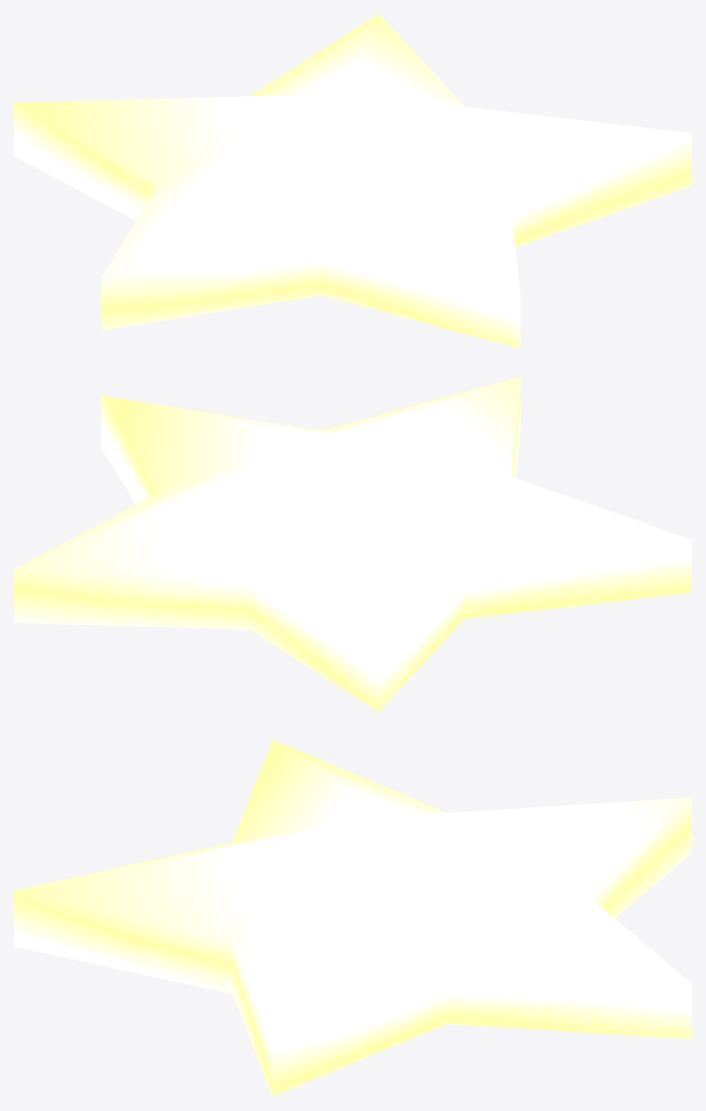
File: star2.glb
3 renders of one model, top to bottom at view 1: azimuth 30°, elevation 25°; view 2: azimuth 150°, elevation 25°; view 3: azimuth 270°, elevation 25°, orthographic. The views are drawn at different scales.
Parts seen in each view (by area): view 1: Circle; view 2: Circle; view 3: Circle.
Boxes of the visible parts, x1,y1,x2,y2 form: Circle: (14,14,691,348); Circle: (14,377,691,711); Circle: (14,740,691,1096).
Size of the model in its own units: 1.9 by 0.6007 by 1.81.
